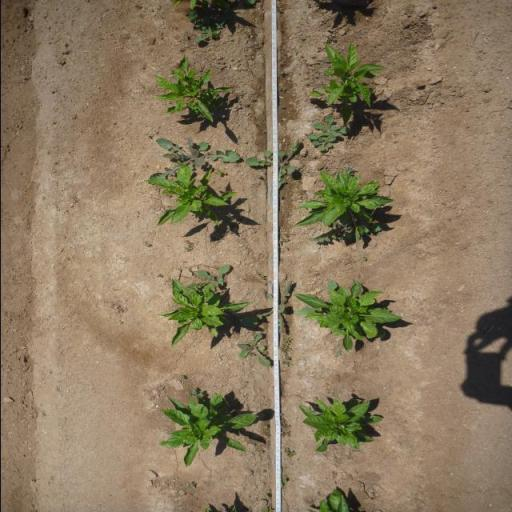plant: (294, 169, 395, 247), (302, 277, 401, 352), (152, 276, 253, 347), (157, 396, 259, 464), (142, 169, 242, 231), (306, 41, 386, 116), (153, 54, 234, 124), (294, 396, 384, 456), (303, 488, 353, 512)
weed: (154, 136, 242, 170), (244, 138, 300, 188), (248, 282, 293, 332), (307, 115, 351, 152), (186, 8, 230, 44), (236, 332, 270, 368), (186, 265, 232, 289), (312, 225, 354, 244), (279, 412, 292, 438), (278, 336, 292, 356), (182, 238, 198, 253), (187, 387, 206, 399), (280, 467, 288, 488), (280, 356, 294, 368), (278, 233, 289, 246), (283, 448, 297, 458), (343, 167, 353, 175), (186, 482, 195, 489), (278, 60, 287, 66), (246, 352, 254, 358), (143, 241, 151, 247), (217, 170, 225, 176), (284, 212, 292, 218), (334, 350, 340, 358), (262, 494, 269, 500), (262, 350, 269, 356), (144, 132, 151, 138), (264, 507, 272, 512), (156, 273, 164, 278), (278, 86, 286, 91), (258, 274, 264, 280), (362, 256, 368, 262), (262, 425, 268, 430), (278, 70, 284, 75), (251, 97, 257, 102), (184, 33, 188, 40), (278, 194, 283, 199), (331, 36, 336, 41), (180, 374, 184, 380), (322, 59, 328, 63), (278, 104, 284, 108), (258, 40, 262, 42)
